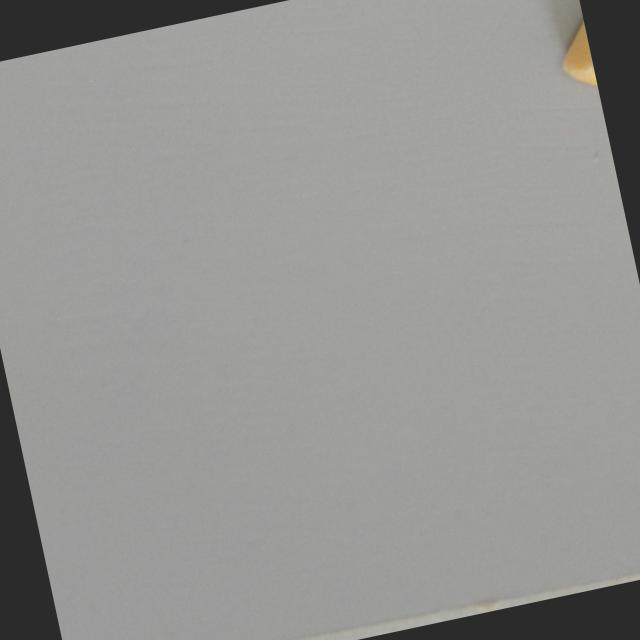entero: (545, 0, 599, 101)
